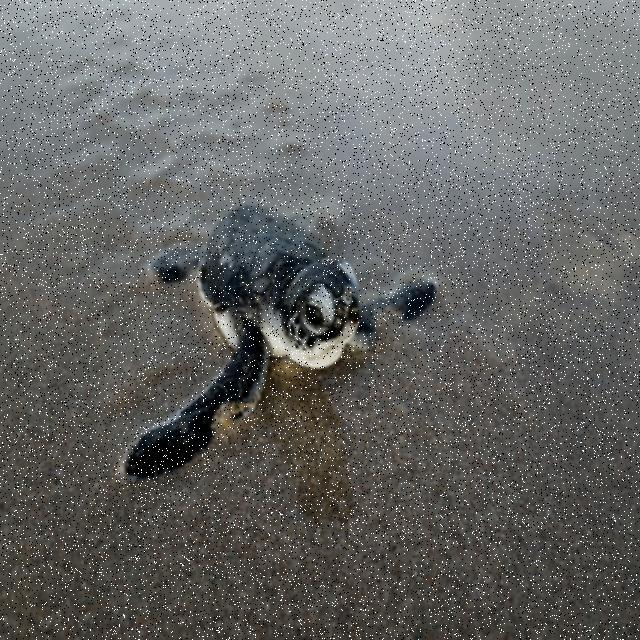tortoise: (109, 194, 447, 488)
